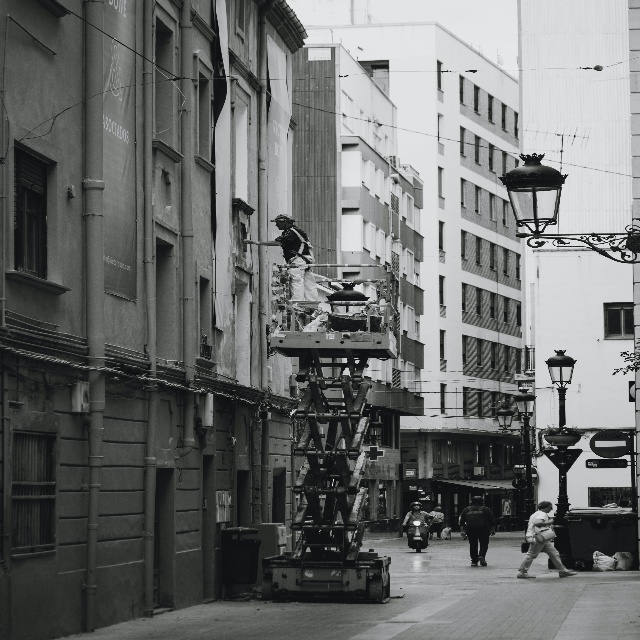Sin_guantes: (243, 238, 259, 244), (489, 529, 496, 537), (548, 518, 554, 524)
